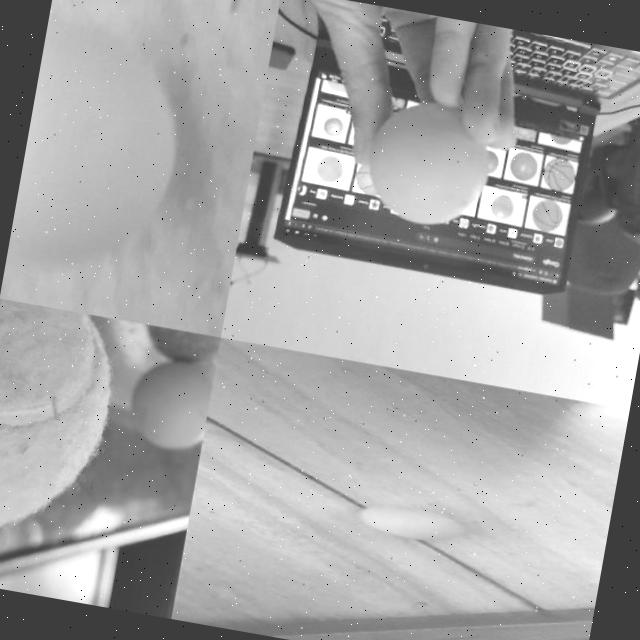ping-pong-ball: (6, 13, 198, 285), (361, 92, 499, 234), (123, 353, 215, 455), (360, 499, 466, 548)
